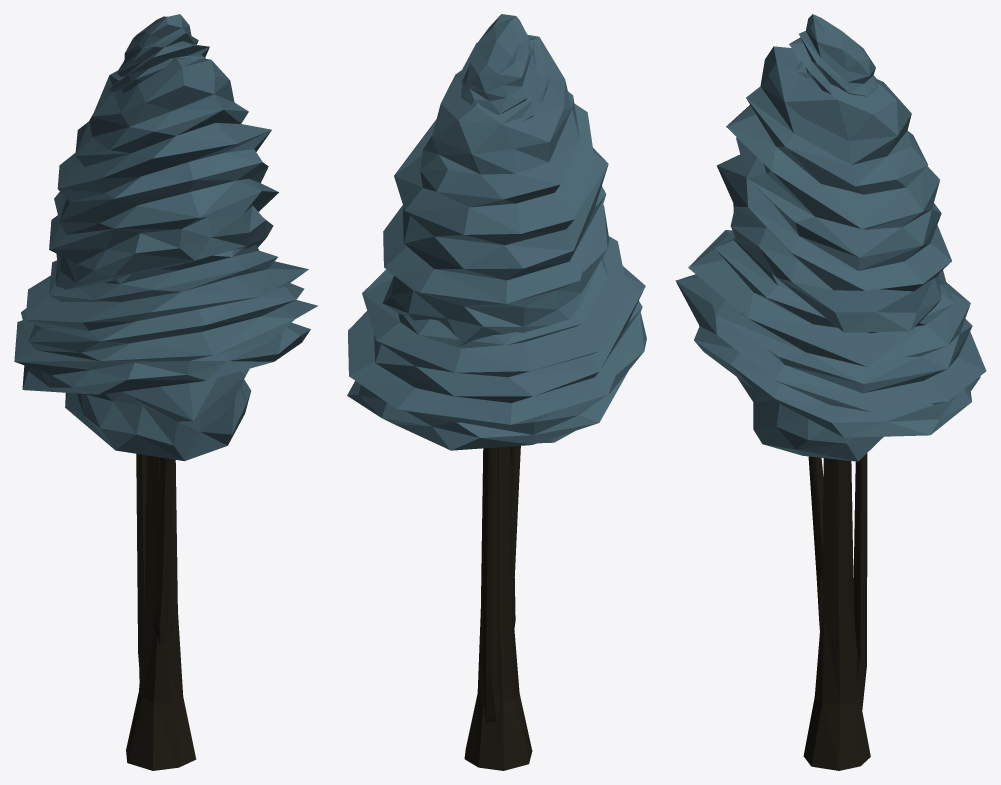
File: drv2.obj
3 views of the same model, side by side, from view 1: azimuth 30°, elevation 25°; view 2: azimuth 150°, elevation 25°; view 3: azimuth 270°, elevation 25° (orthographic). The views are drawn at different scales.
Parts seen in each view (by area): view 1: Cube.000_Cube.003; view 2: Cube.000_Cube.003; view 3: Cube.000_Cube.003.
Part boxes in pixels (x1,y1,x2,y2): Cube.000_Cube.003: (14,14,318,770); Cube.000_Cube.003: (347,14,646,770); Cube.000_Cube.003: (675,14,986,770).
Bounding box in the file's own units: 40.03 × 108 × 41.24.
